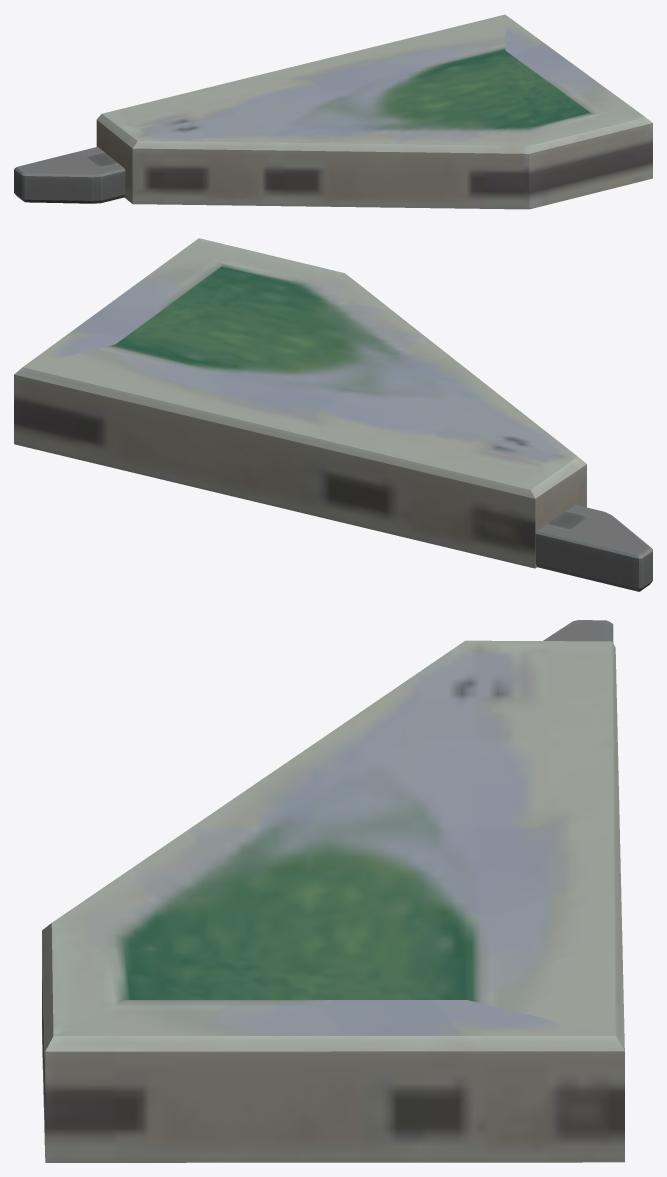
Rendered from pref_sm_city_shop01c_lv3.fbx.
3 views of the same model, one above another, from view 1: azimuth 30°, elevation 25°; view 2: azimuth 150°, elevation 25°; view 3: azimuth 270°, elevation 25° (orthographic). The views are drawn at different scales.
Visible parts, largest first — view 1: pref_sm_city_shop01c_lv3; view 2: pref_sm_city_shop01c_lv3; view 3: pref_sm_city_shop01c_lv3.
Part boxes in pixels (<box>): pref_sm_city_shop01c_lv3: <box>14,14,652,209</box>; pref_sm_city_shop01c_lv3: <box>14,238,652,591</box>; pref_sm_city_shop01c_lv3: <box>42,620,624,1162</box>.
Size of the model in its own units: 6.18 by 0.723 by 3.13.
